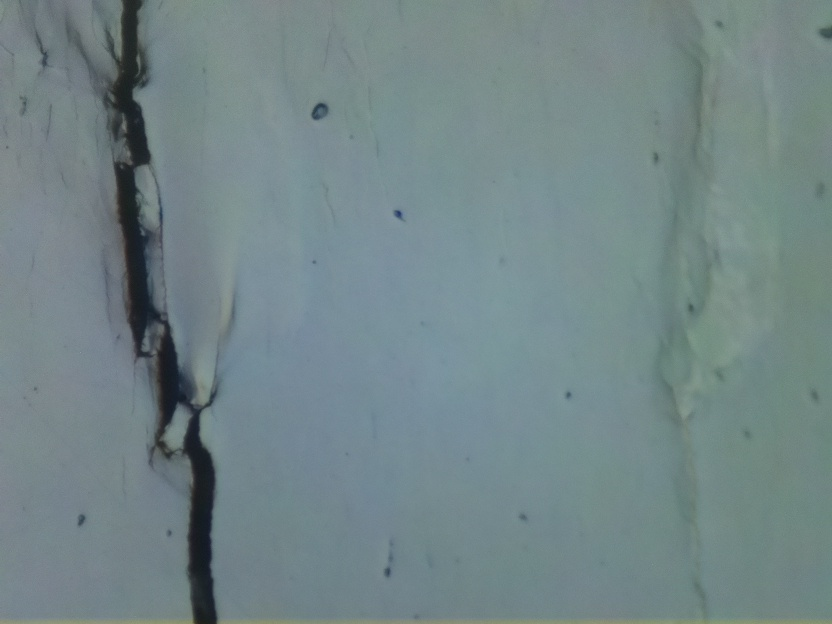crack: (116, 0, 221, 624)
